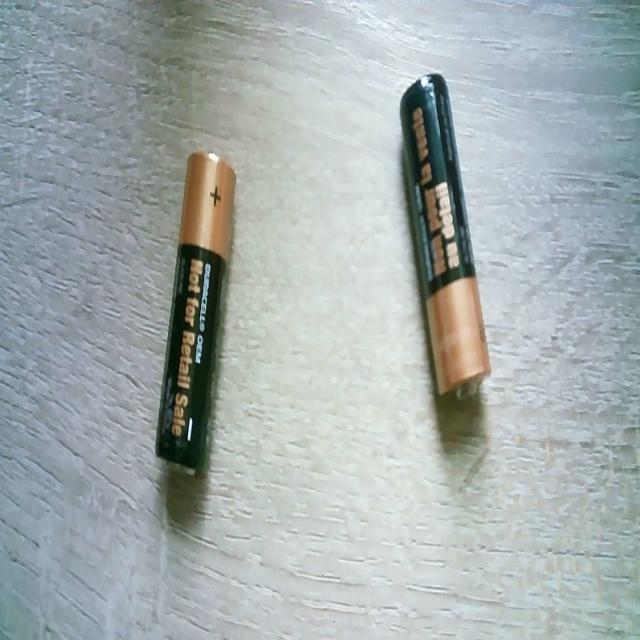AA: (398, 71, 492, 401), (154, 149, 237, 475)
